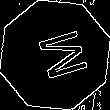M_W: (24, 26, 86, 84)
